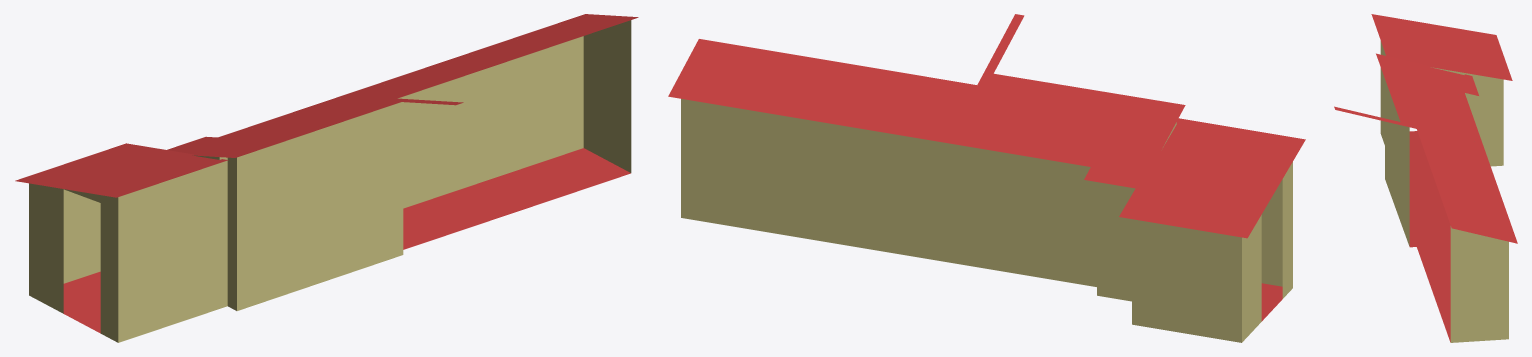
3 renders of one model, left to right at view 1: azimuth 30°, elevation 25°; view 2: azimuth 150°, elevation 25°; view 3: azimuth 270°, elevation 25°, orthographic. The views are drawn at different scales.
Size of the model in its own units: 33.04 by 11.48 by 9.79.
